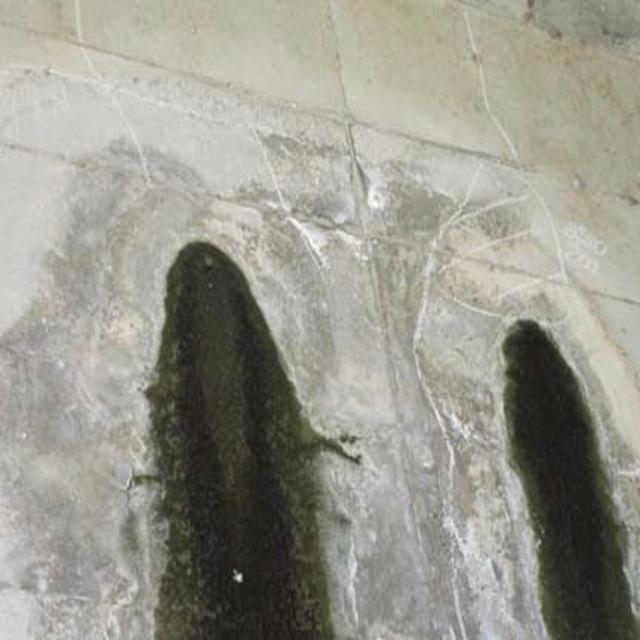leakage: (128, 238, 354, 640), (509, 314, 634, 633)
